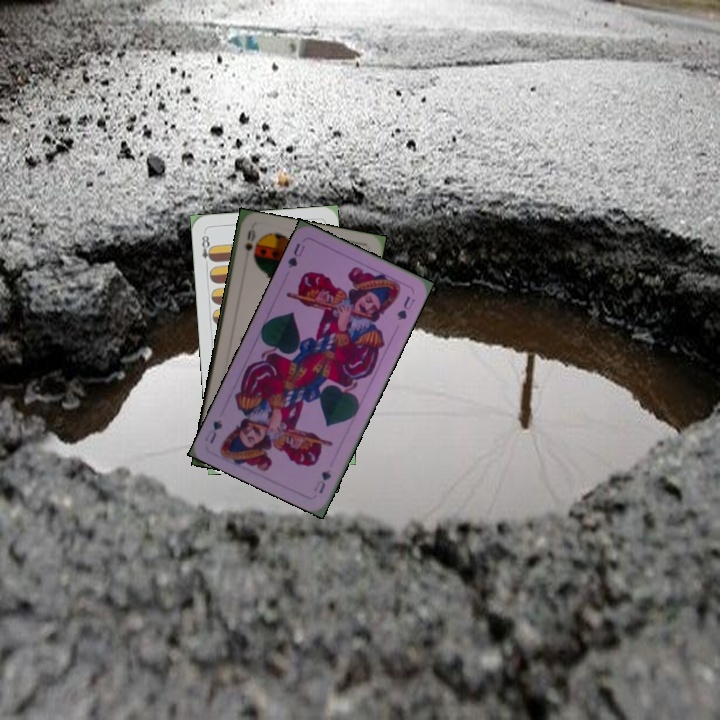E8: (198, 231, 216, 270)
GU: (283, 239, 308, 271), (310, 466, 334, 496)
SO: (241, 226, 259, 254)
